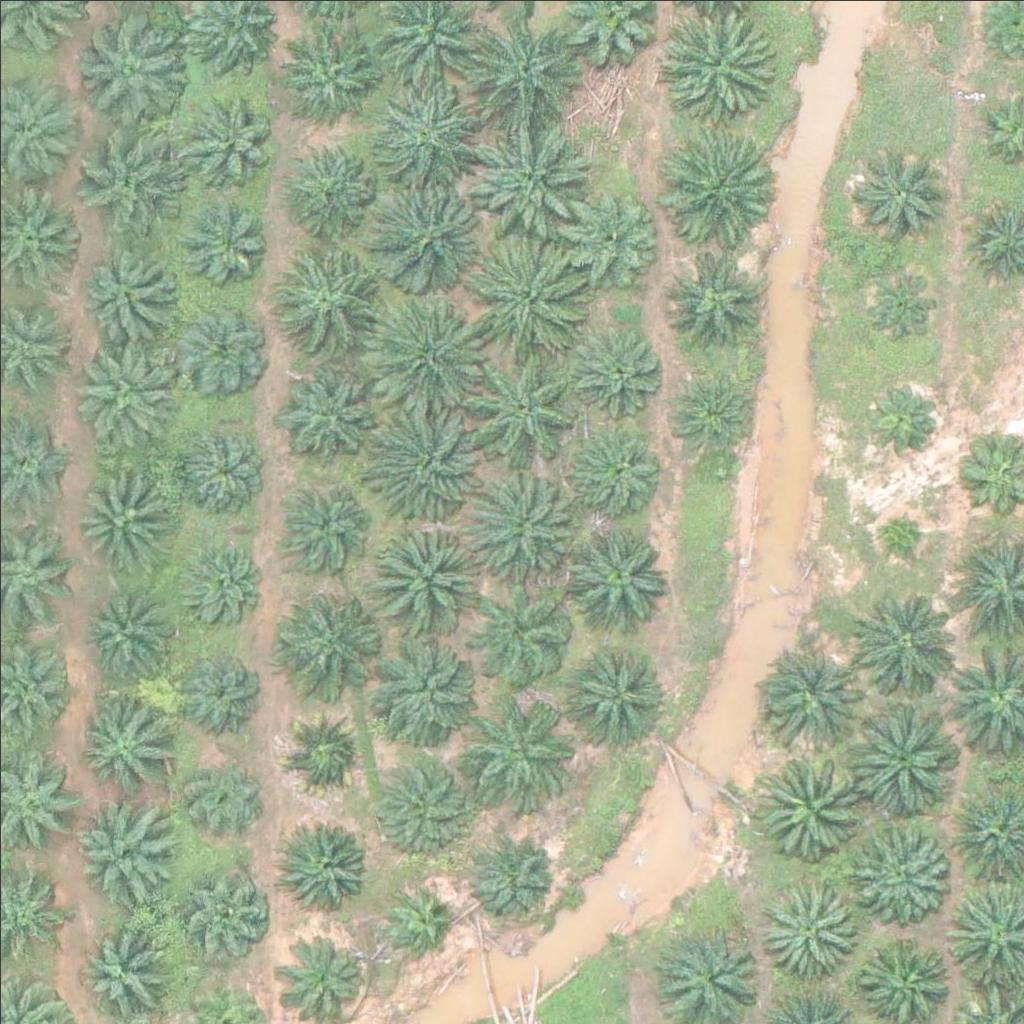Kelapa_Sawit: (659, 134, 772, 248), (78, 10, 191, 123), (475, 118, 588, 231), (663, 11, 776, 124), (366, 297, 479, 410), (366, 408, 479, 521), (367, 526, 480, 639), (366, 641, 479, 754), (469, 466, 582, 579), (467, 237, 580, 350), (850, 701, 963, 814), (853, 584, 966, 697), (371, 79, 483, 193), (66, 335, 178, 449), (363, 182, 475, 296), (72, 127, 184, 240), (465, 20, 577, 133), (271, 582, 383, 695), (269, 232, 381, 345), (463, 352, 575, 465), (755, 749, 867, 862), (758, 641, 870, 754), (851, 141, 951, 242), (72, 696, 172, 797), (172, 296, 272, 397), (280, 356, 380, 457), (478, 696, 578, 797), (472, 584, 572, 685), (566, 430, 666, 531), (566, 522, 666, 623), (560, 648, 660, 749), (664, 250, 764, 351), (756, 875, 856, 976), (851, 822, 951, 923), (279, 14, 379, 114), (73, 916, 173, 1016), (70, 800, 170, 900), (69, 463, 169, 563), (76, 242, 176, 342), (171, 418, 271, 518), (371, 762, 471, 862), (559, 188, 659, 288), (563, 329, 663, 429), (854, 259, 942, 348), (186, 97, 274, 185), (289, 143, 377, 231), (82, 592, 170, 680), (183, 200, 271, 288), (177, 753, 265, 841), (176, 641, 264, 729), (176, 536, 264, 624), (468, 833, 556, 921), (180, 870, 267, 958), (278, 929, 365, 1017), (282, 824, 369, 912), (857, 378, 944, 466), (282, 706, 369, 794), (285, 485, 372, 573), (670, 375, 757, 463), (378, 879, 453, 955), (875, 501, 925, 551)
